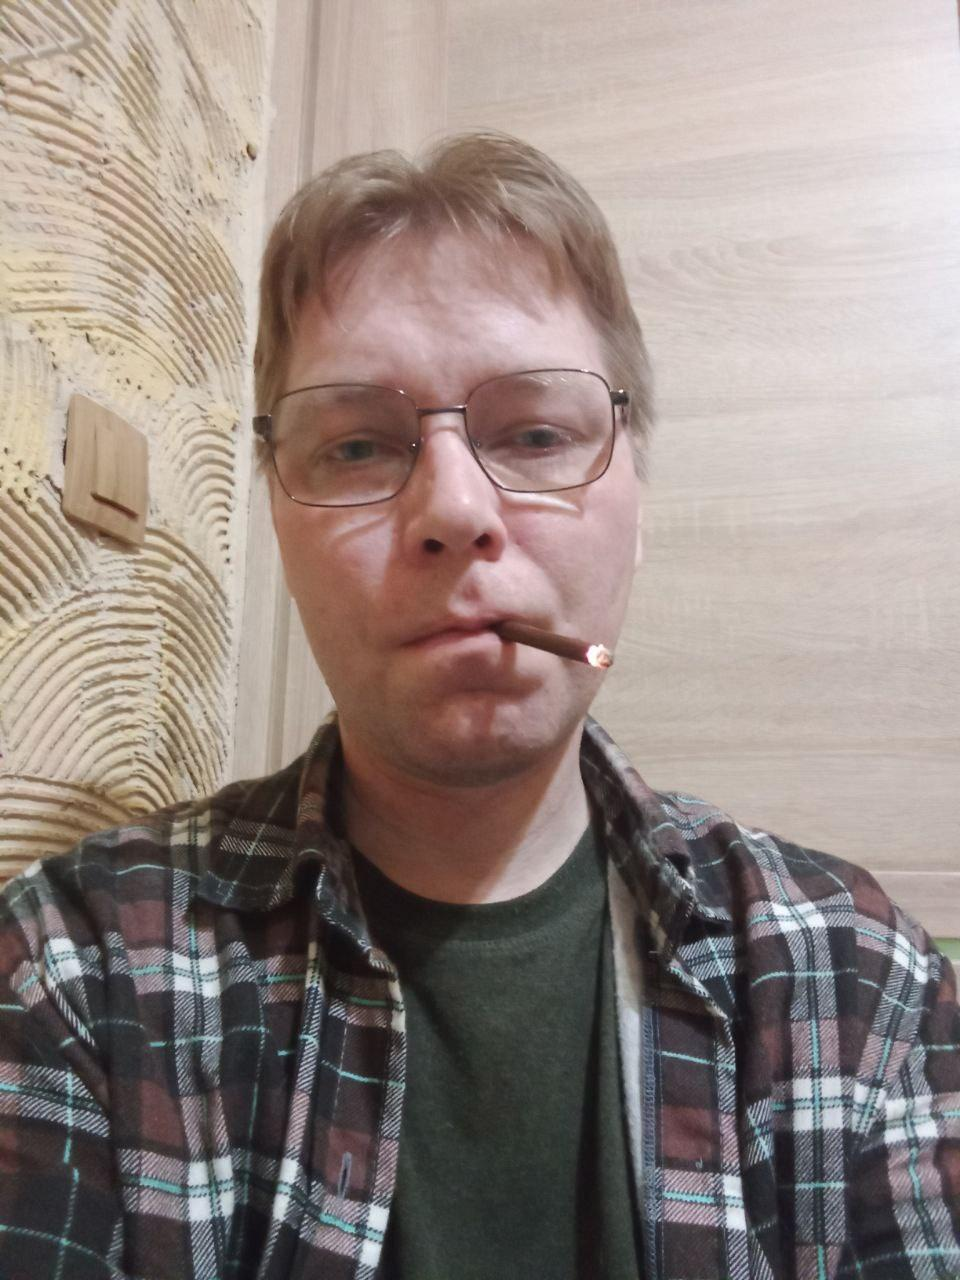cigarette: (492, 620, 612, 670)
